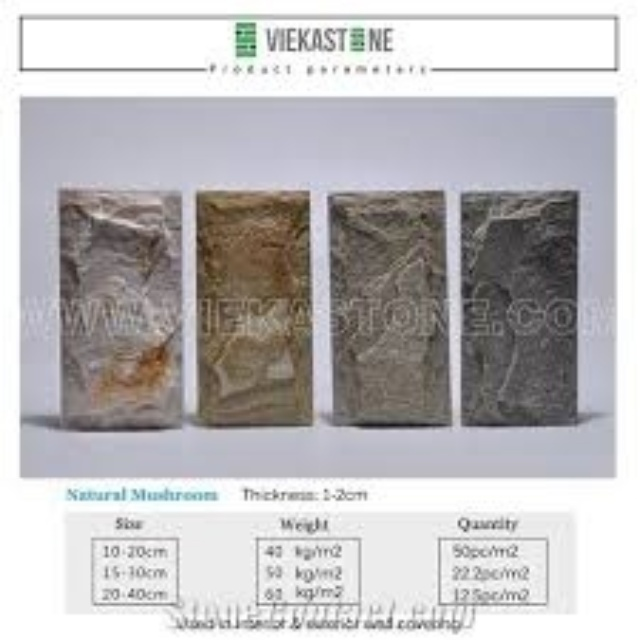obstacle: (60, 188, 179, 427), (196, 191, 310, 424), (461, 191, 575, 424)
